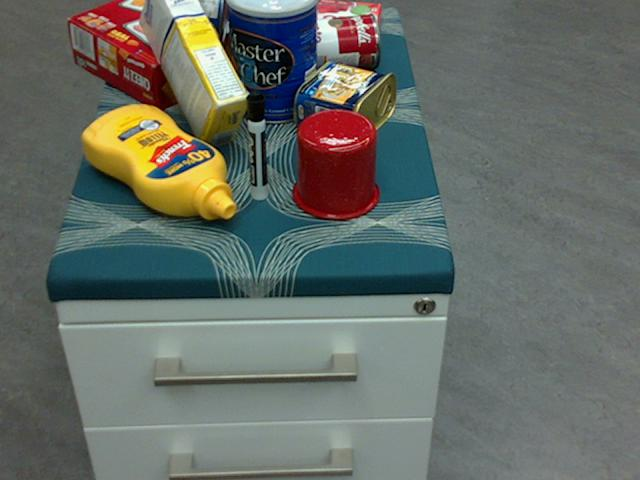cracker_box: (69, 0, 283, 112)
gelatin_box: (309, 1, 380, 44)
large_marker: (245, 90, 267, 198)
master_chef_can: (226, 0, 317, 123)
mug: (290, 107, 378, 219)
mustard_bottle: (81, 105, 235, 218)
potted_meat_can: (293, 59, 396, 146)
sugar_box: (139, 0, 251, 148)
tomato_soup_can: (291, 12, 380, 73)
tuna_fish_can: (191, 0, 228, 45)
